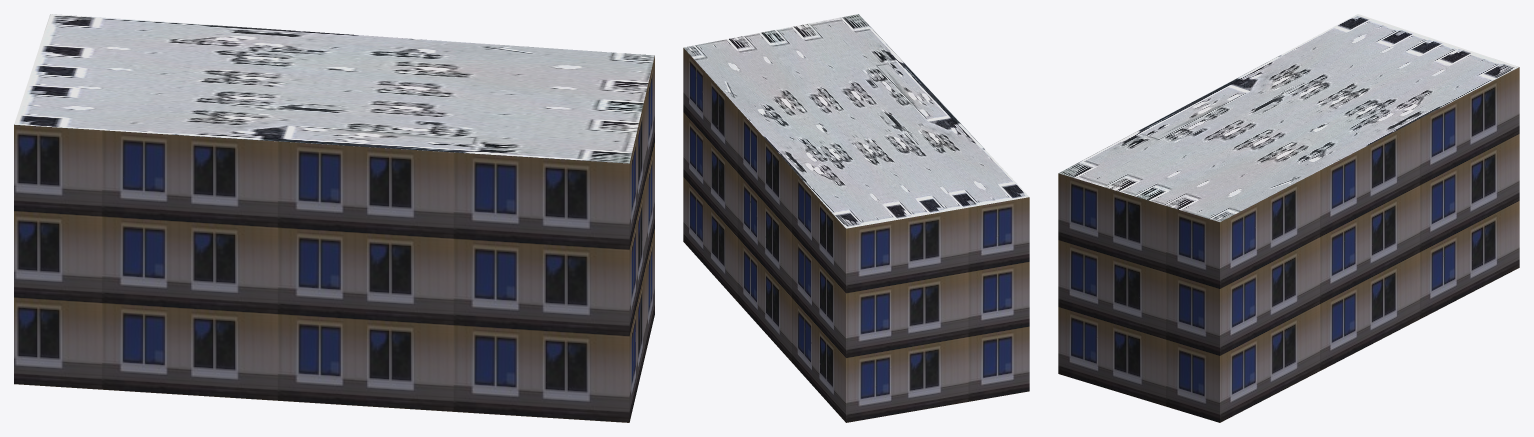
Rendered from ResTex__1313.fbx.
3 views of the same model, side by side, from view 1: azimuth 30°, elevation 25°; view 2: azimuth 150°, elevation 25°; view 3: azimuth 270°, elevation 25° (orthographic). The views are drawn at different scales.
Parts seen in each view (by area): view 1: CityEngineMaterial_5_m, CityEngineMaterial_4_m; view 2: CityEngineMaterial_5_m, CityEngineMaterial_4_m; view 3: CityEngineMaterial_5_m, CityEngineMaterial_4_m.
Part boxes in pixels (x1,y1,x2,y2): CityEngineMaterial_5_m: (14, 56, 654, 422); CityEngineMaterial_4_m: (14, 14, 654, 163); CityEngineMaterial_5_m: (683, 48, 1029, 422); CityEngineMaterial_4_m: (683, 14, 1029, 228); CityEngineMaterial_5_m: (1058, 67, 1519, 422); CityEngineMaterial_4_m: (1059, 14, 1518, 221).
Bounding box in the file's own units: 20.03 × 9 × 18.75.
2 materials, 2 textured.
